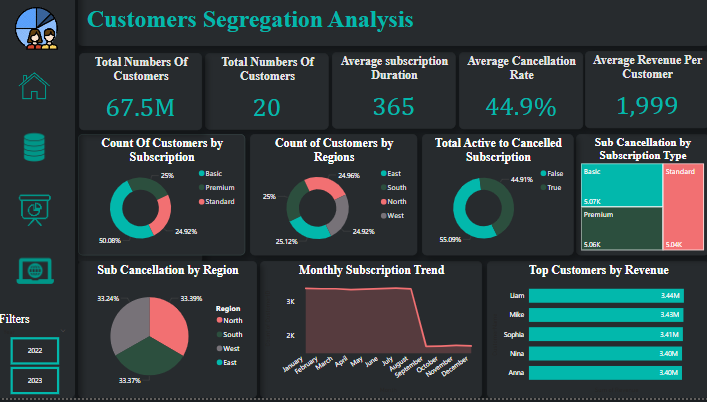

This screenshot's page, from the dashboard's own definition file:
{"tool":"powerbi","page":{"name":"CustomerData Dashboard","canvas":[1280,720],"ordinal":0},"visuals":[{"type":"card","title":"Total Numbers Of Customers","fields":{"Values":["CustomerData.CustomerID"]},"box":[379.4,103.1,221.1,137.4],"z":0},{"type":"card","title":"Average subscription Duration","fields":{"Values":["CustomerData (2).Suscription Duration"]},"box":[606.5,101.1,221.1,137.4],"z":1000},{"type":"card","title":"Total Revenue","fields":{"Values":["CustomerData.Revenue"]},"box":[152,341.5,221.7,137.7],"z":2000},{"type":"donutChart","title":"Count Of Customers by Subscription","fields":{"Y":["CustomerData.CustomerID"],"Category":["CustomerData.SubscriptionType"]},"box":[152.4,248,298.8,216.6],"z":5000},{"type":"donutChart","title":"Count of Customers by Regions","fields":{"Y":["CustomerData.CustomerID"],"Category":["CustomerData.Region"]},"box":[460.1,248,298.8,216.6],"z":6000},{"type":"areaChart","title":"Monthly Subscription Trend","fields":{"Y":["CustomerData.CustomerID"],"Category":["CustomerData.SubscriptionStart.Variation.Date Hierarchy.Month"]},"box":[478,475,397.3,245],"z":7000},{"type":"barChart","title":"Top Customers by Revenue","fields":{"Category":["CustomerData.CustomerName"],"Y":["CustomerData.Revenue"]},"box":[882.8,475,397.3,245],"z":8000},{"type":"card","title":"Average Cancellation Rate","fields":{"Values":["CustomerData.Average Cancellation Rate"]},"box":[833.1,101.9,221.7,137.7],"z":9000},{"type":"shape","box":[152.4,0,1127.8,91.1],"z":10000},{"type":"treemap","title":"Sub Cancellation by Subscription Type","fields":{"Group":["CustomerData.SubscriptionType"],"Values":["CustomerData.cancelled Sub"]},"box":[1042.5,248,237.5,216.6],"z":11000},{"type":"pieChart","title":"Sub Cancellation by Region","fields":{"Y":["CustomerData.cancelled Sub"],"Category":["CustomerData.Region"]},"box":[152.4,475,319.7,245],"z":12000},{"type":"shape","box":[1.5,0,144.9,720],"z":13000},{"type":"textbox","box":[162.8,12,664.7,68.7],"z":14000},{"type":"slicer","title":"Filters","fields":{"Values":["CustomerData.Year"]},"box":[4.5,566.1,137.4,153.9],"z":15000},{"type":"image","box":[22.4,104.6,109,118],"z":16000},{"type":"image","box":[25.4,340.6,104.6,85.1],"z":17000},{"type":"image","box":[22.4,446.6,106.1,98.6],"z":18000},{"type":"image","box":[19.4,218.1,110.5,98.6],"z":19000},{"type":"image","box":[0,0,155.4,118],"z":20000},{"type":"donutChart","title":"Total Active to Cancelled Subscription","fields":{"Category":["CustomerData.Canceled"],"Y":["CustomerData.CustomerID"]},"box":[766.3,248.3,271.1,216.9],"z":21000},{"type":"card","title":"Average Revenue Per Customer","fields":{"Values":["CustomerData.Average revenue Per Customer"]},"box":[1058.3,100.1,221.7,137.7],"z":21001},{"type":"card","title":"Total Numbers Of Customers","fields":{"Values":["CustomerData.Revenue"]},"box":[153.7,103.7,219.9,137.7],"z":21002}]}

Visuals, with their boxes on the page's 1280x720 design canvas (x1, y1, x2, y2). These are canvas units, not pixel positions in the 707x402 screenshot, which may show the page scaled, cropped or inside an application window:
"Total Numbers Of Customers" card: region(379, 103, 600, 240)
"Average subscription Duration" card: region(606, 101, 828, 238)
"Total Revenue" card: region(152, 342, 374, 479)
"Count Of Customers by Subscription" donutChart: region(152, 248, 451, 465)
"Count of Customers by Regions" donutChart: region(460, 248, 759, 465)
"Monthly Subscription Trend" areaChart: region(478, 475, 875, 720)
"Top Customers by Revenue" barChart: region(883, 475, 1280, 720)
"Average Cancellation Rate" card: region(833, 102, 1055, 240)
shape: region(152, 0, 1280, 91)
"Sub Cancellation by Subscription Type" treemap: region(1042, 248, 1280, 465)
"Sub Cancellation by Region" pieChart: region(152, 475, 472, 720)
shape: region(2, 0, 146, 720)
textbox: region(163, 12, 828, 81)
"Filters" slicer: region(4, 566, 142, 720)
image: region(22, 105, 131, 223)
image: region(25, 341, 130, 426)
image: region(22, 447, 128, 545)
image: region(19, 218, 130, 317)
image: region(0, 0, 155, 118)
"Total Active to Cancelled Subscription" donutChart: region(766, 248, 1037, 465)
"Average Revenue Per Customer" card: region(1058, 100, 1280, 238)
"Total Numbers Of Customers" card: region(154, 104, 374, 241)
